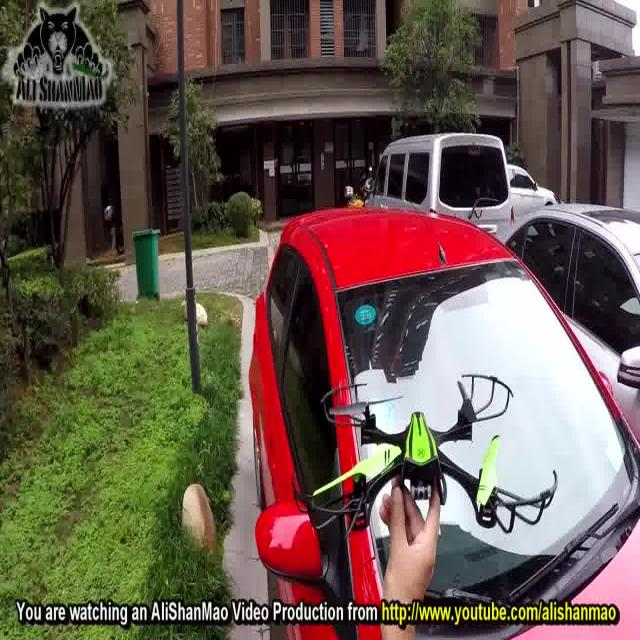Drone_FW: (290, 373, 560, 535)
